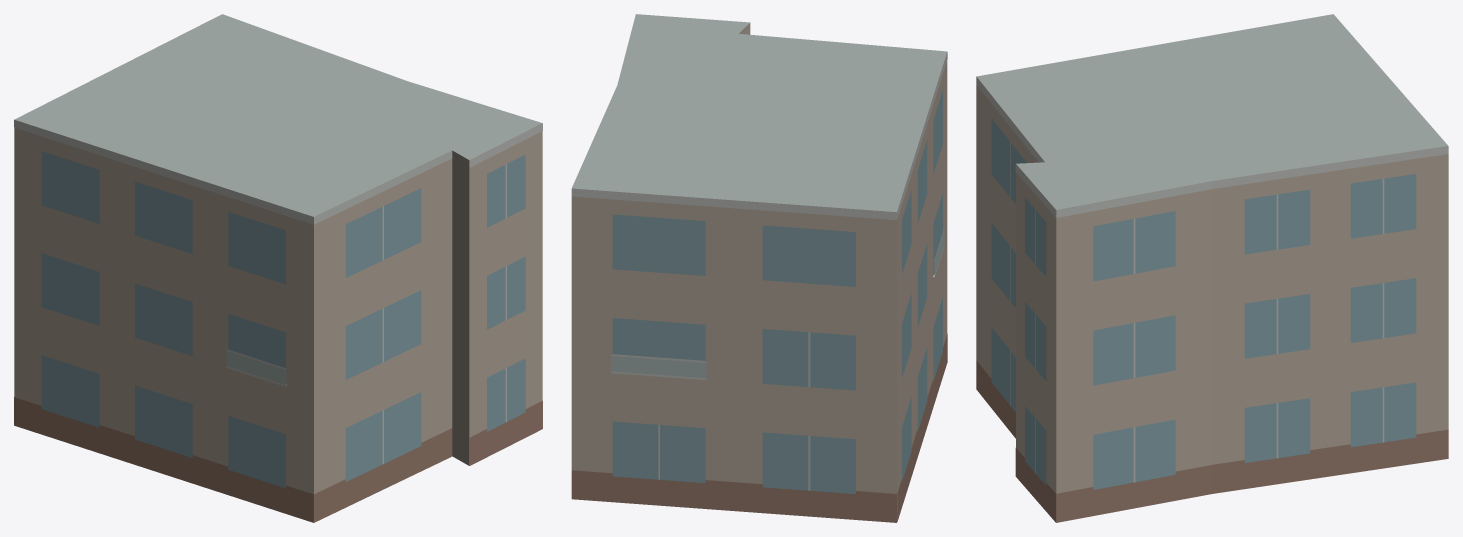
The model's file is survey-upis-32585697.glb.
3 views of the same model, side by side, from view 1: azimuth 30°, elevation 25°; view 2: azimuth 150°, elevation 25°; view 3: azimuth 270°, elevation 25° (orthographic). The views are drawn at different scales.
Parts seen in each view (by area): view 1: survey-upis-32585697.tmp; view 2: survey-upis-32585697.tmp; view 3: survey-upis-32585697.tmp.
Part boxes in pixels (box(x1,y1,x2,y2)): survey-upis-32585697.tmp: box(14, 14, 542, 522); survey-upis-32585697.tmp: box(571, 14, 947, 522); survey-upis-32585697.tmp: box(976, 14, 1448, 522).
Size of the model in its own units: 12.78 by 9.5 by 13.
